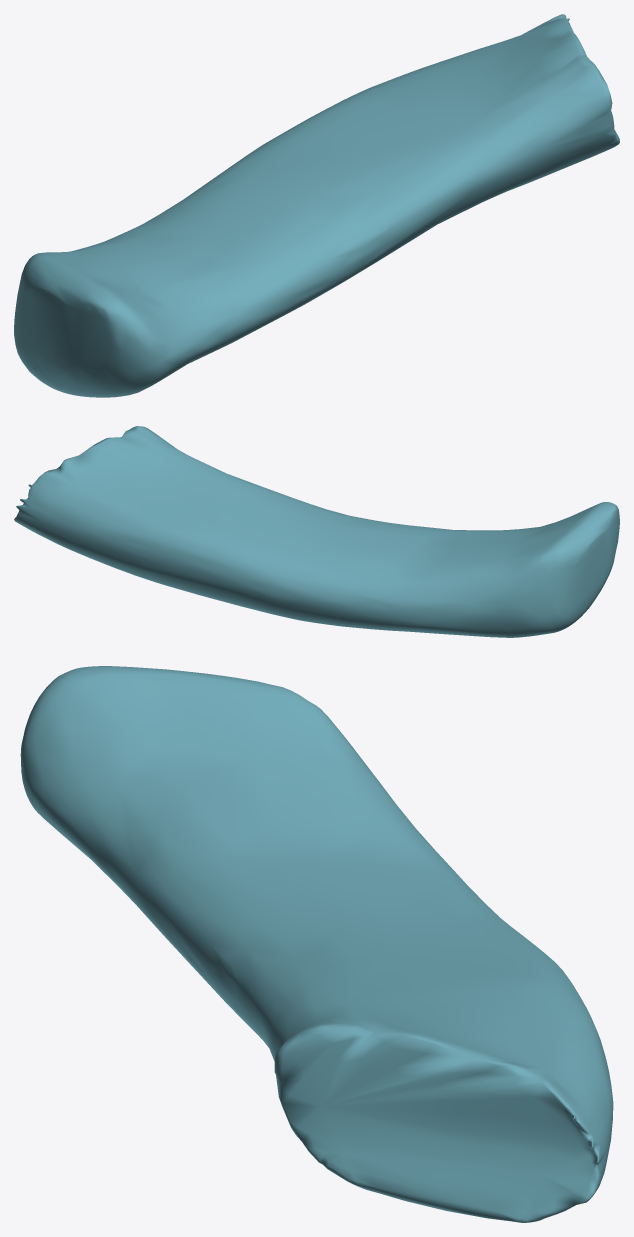
The picture shows the model from 3 angles, top to bottom: view 1: azimuth 30°, elevation 25°; view 2: azimuth 150°, elevation 25°; view 3: azimuth 270°, elevation 25°; orthographic projection. The views are drawn at different scales.
Visible parts, largest first — view 1: 左侧第四肋软骨; view 2: 左侧第四肋软骨; view 3: 左侧第四肋软骨.
Part boxes in pixels (box(x1,y1,x2,y2)): 左侧第四肋软骨: box(14, 14, 619, 397); 左侧第四肋软骨: box(14, 426, 619, 637); 左侧第四肋软骨: box(20, 666, 613, 1222).
Size of the model in its own units: 0.0802 by 0.0185 by 0.0427.
